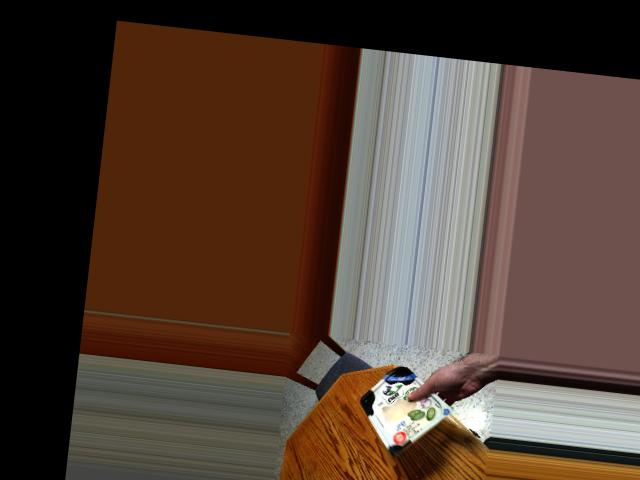cheese: (364, 362, 440, 449)
